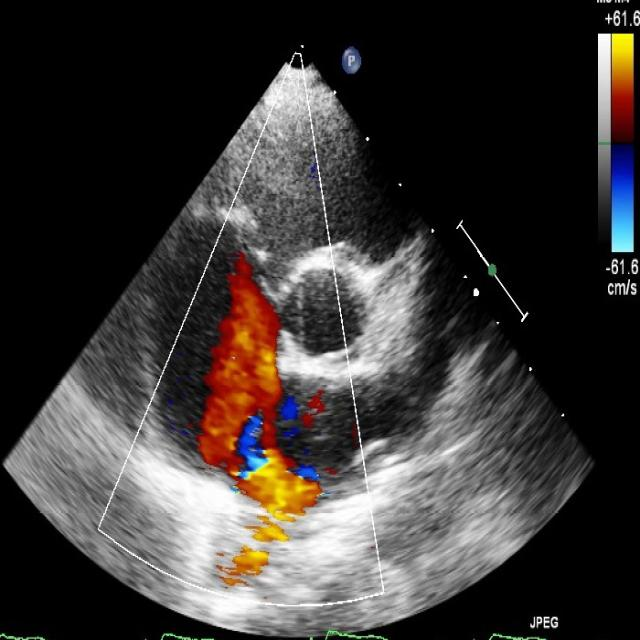ASDType2: (197, 350, 331, 524)
